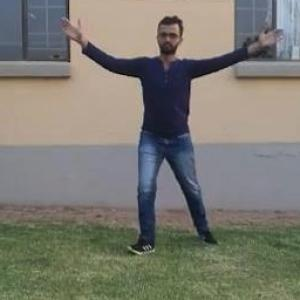takeoff: (54, 15, 253, 229)
